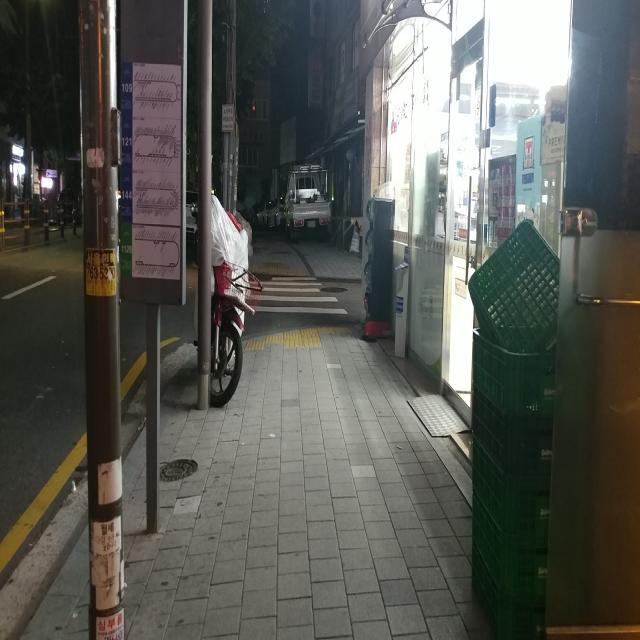횡단보도: (249, 277, 348, 315)
